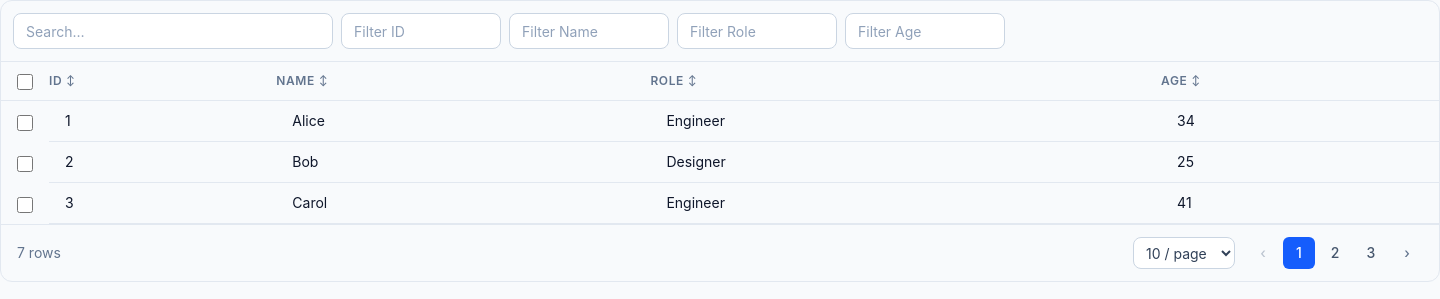
Test: DataTable › selection › deselects with a second header click
Click the checkbox named "Select all rows" at [25, 82], box [17,74,33,90]
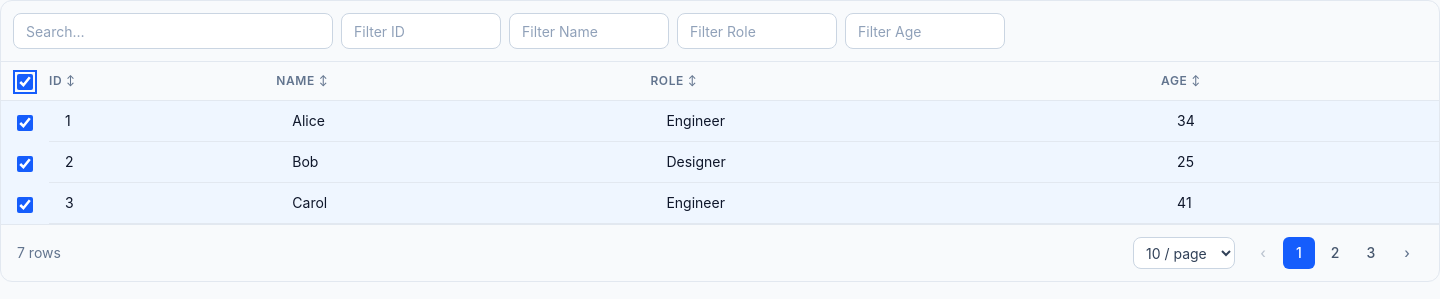
Click the checkbox named "Select all rows" at [25, 82], box [17,74,33,90]
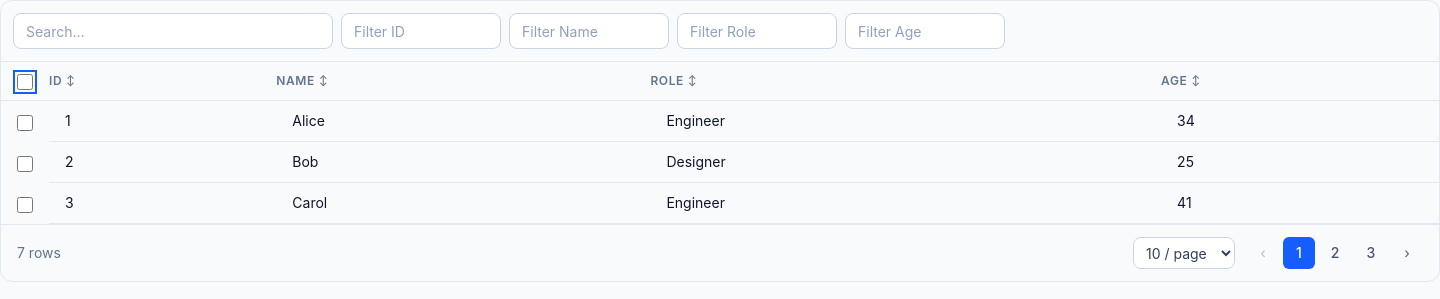
Expected: the checkbox named "Select Users row 1" is not checked, [17,114,33,130]
